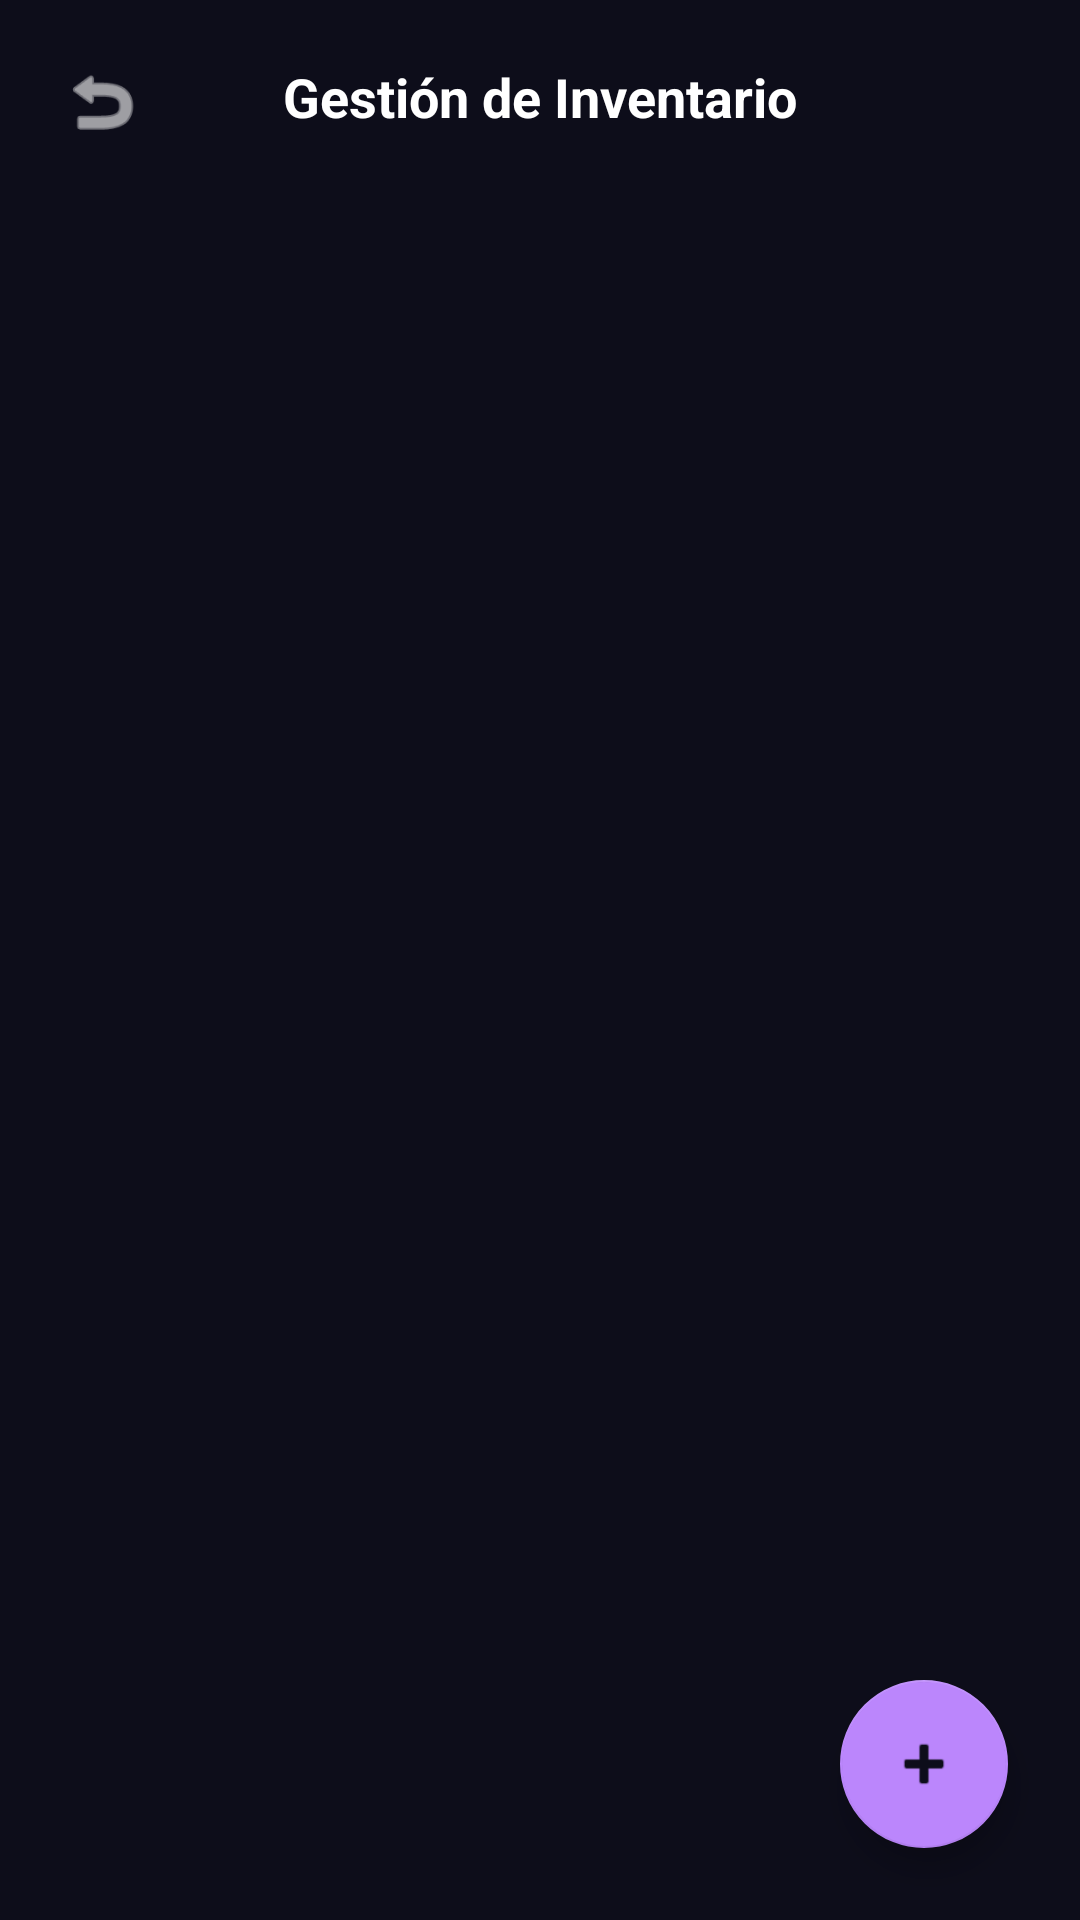

Where icons sit on this 1080×1920 app screen, as box(x1, y1, x2, y2):
add: box(840, 1680, 1008, 1848)
revert: box(73, 75, 134, 130)
